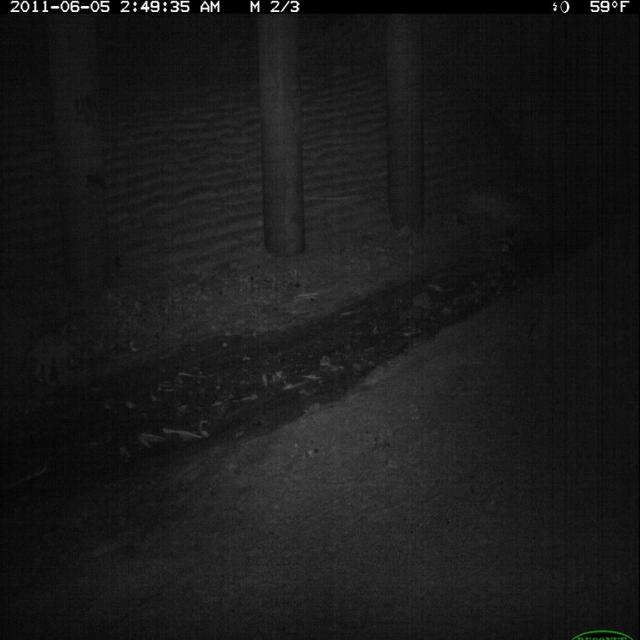bobcat: (22, 318, 82, 390)
